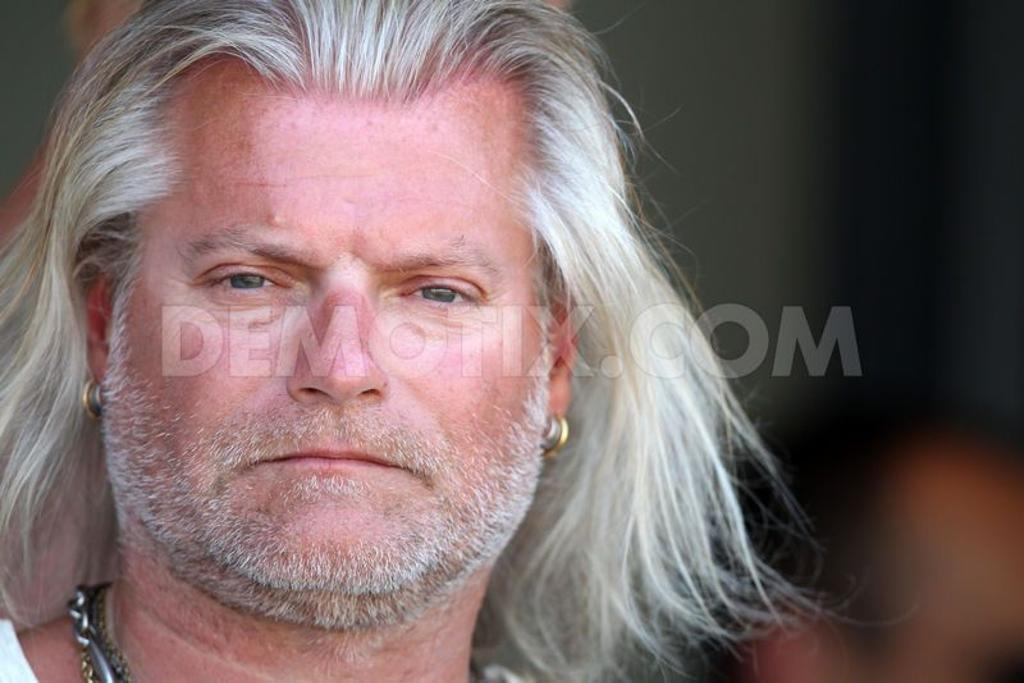face: (121, 79, 529, 619)
